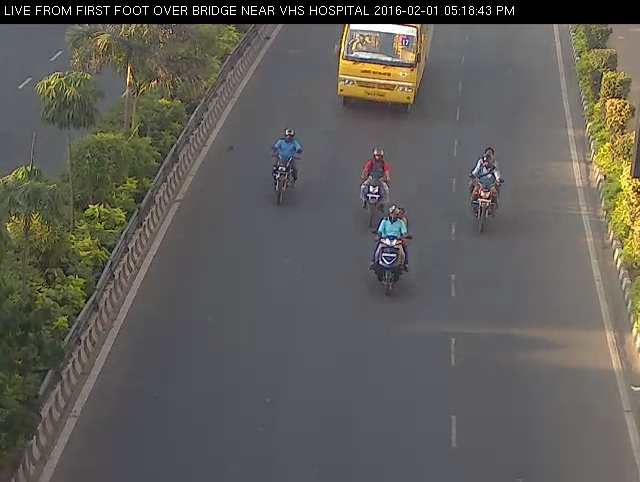Bus: (327, 18, 443, 126)
Person: (457, 141, 515, 241), (363, 204, 417, 296), (353, 138, 396, 236), (261, 120, 305, 207)
